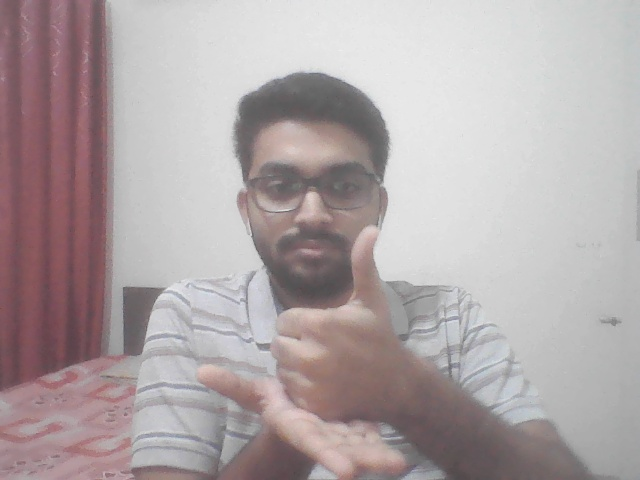help: (203, 206, 467, 470)
